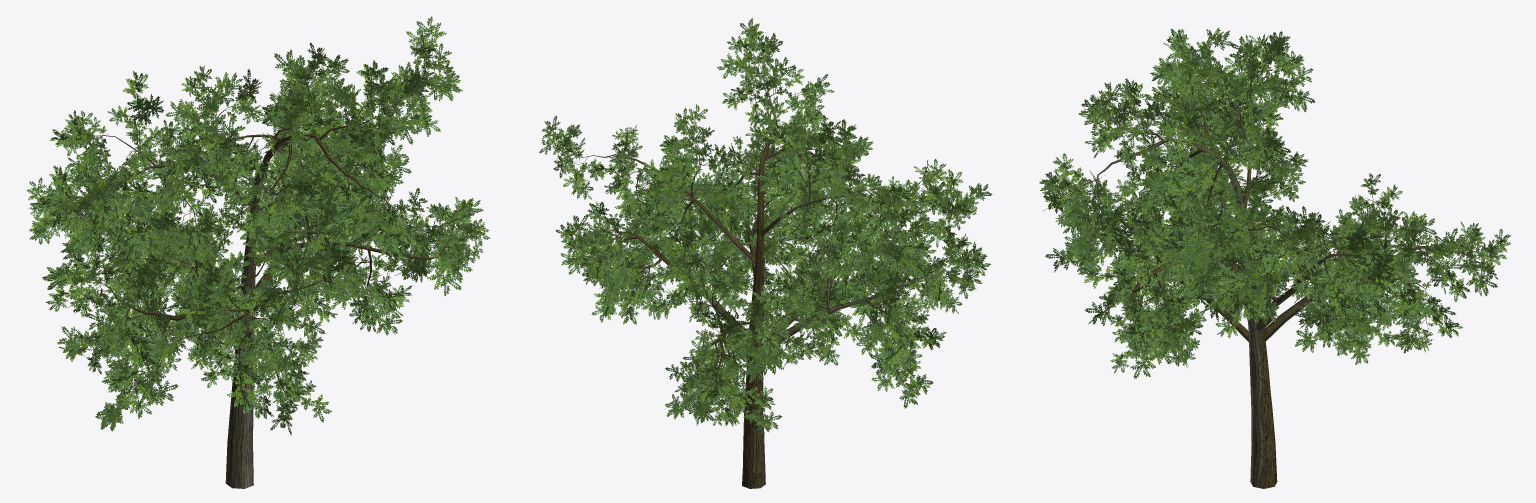
The model's file is ash-medium.glb.
3 views of the same model, side by side, from view 1: azimuth 30°, elevation 25°; view 2: azimuth 150°, elevation 25°; view 3: azimuth 270°, elevation 25° (orthographic). The views are drawn at different scales.
Visible parts, largest first — view 1: Tree; view 2: Tree; view 3: Tree.
Boxes of the visible parts, x1,y1,x2,y2 form: Tree: (26,16,490,488); Tree: (539,18,992,488); Tree: (1039,28,1510,488).
Size of the model in its own units: 75.52 by 70.96 by 71.72.
Materials: 2 (2 with a texture image).
